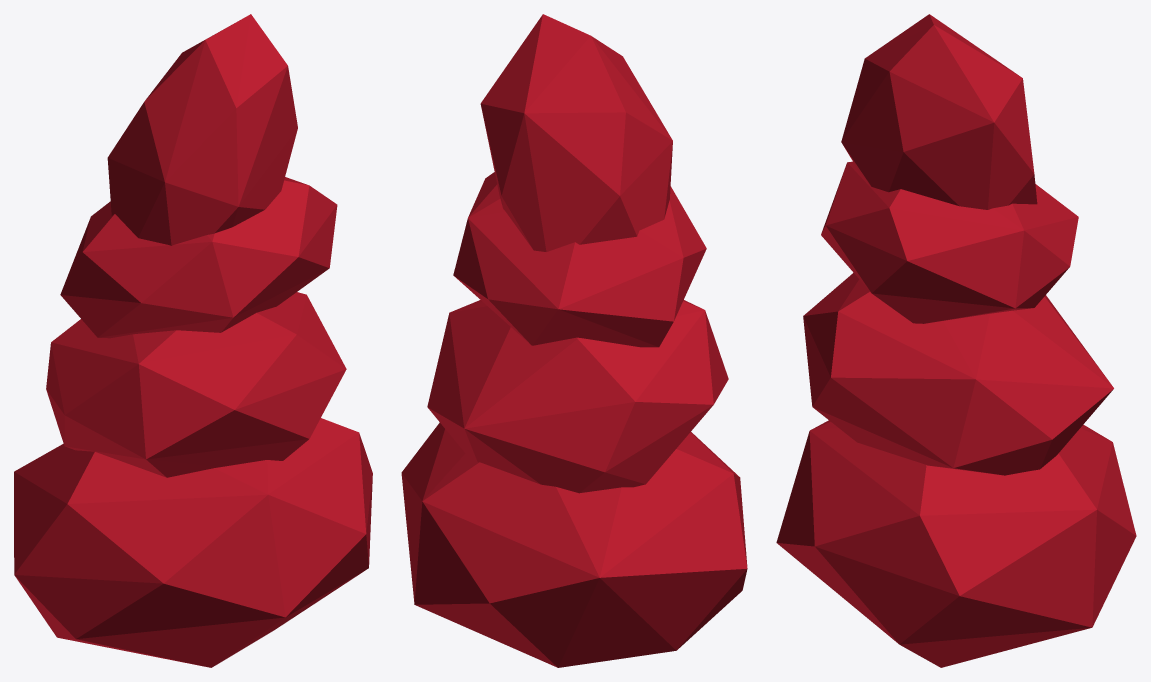
Rendered from tree-dead-leaves-4-048.glb.
3 views of the same model, side by side, from view 1: azimuth 30°, elevation 25°; view 2: azimuth 150°, elevation 25°; view 3: azimuth 270°, elevation 25° (orthographic). The views are drawn at different scales.
Parts seen in each view (by area): view 1: TREE 4.007_513; view 2: TREE 4.007_513; view 3: TREE 4.007_513.
Part boxes in pixels (x1,y1,x2,y2): TREE 4.007_513: (14, 14, 372, 667); TREE 4.007_513: (401, 14, 747, 667); TREE 4.007_513: (776, 14, 1136, 667).
Size of the model in its own units: 0.7503 by 1.25 by 0.646.
